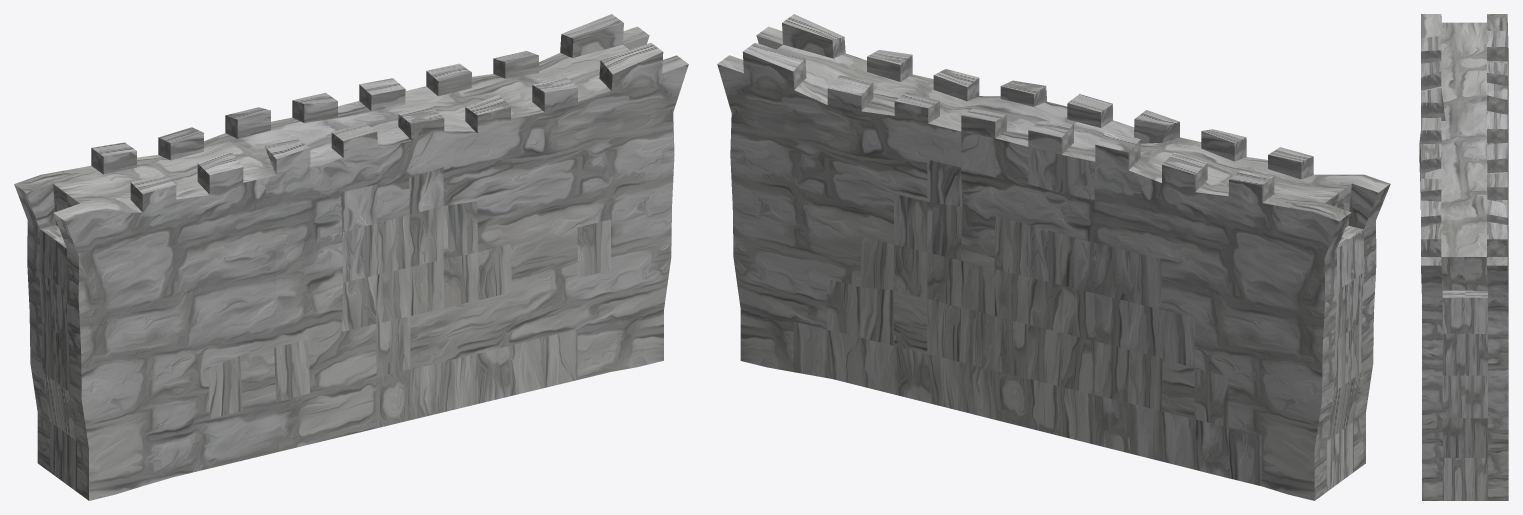
File: Wall.FBX
3 views of the same model, side by side, from view 1: azimuth 30°, elevation 25°; view 2: azimuth 150°, elevation 25°; view 3: azimuth 270°, elevation 25° (orthographic). The views are drawn at different scales.
Visible parts, largest first — view 1: Object027; view 2: Object027; view 3: Object027.
Boxes of the visible parts, <box> form: Object027: <box>14,14,688,500</box>; Object027: <box>717,14,1390,500</box>; Object027: <box>1419,14,1508,500</box>.
Size of the model in its own units: 747 by 355 by 110.
